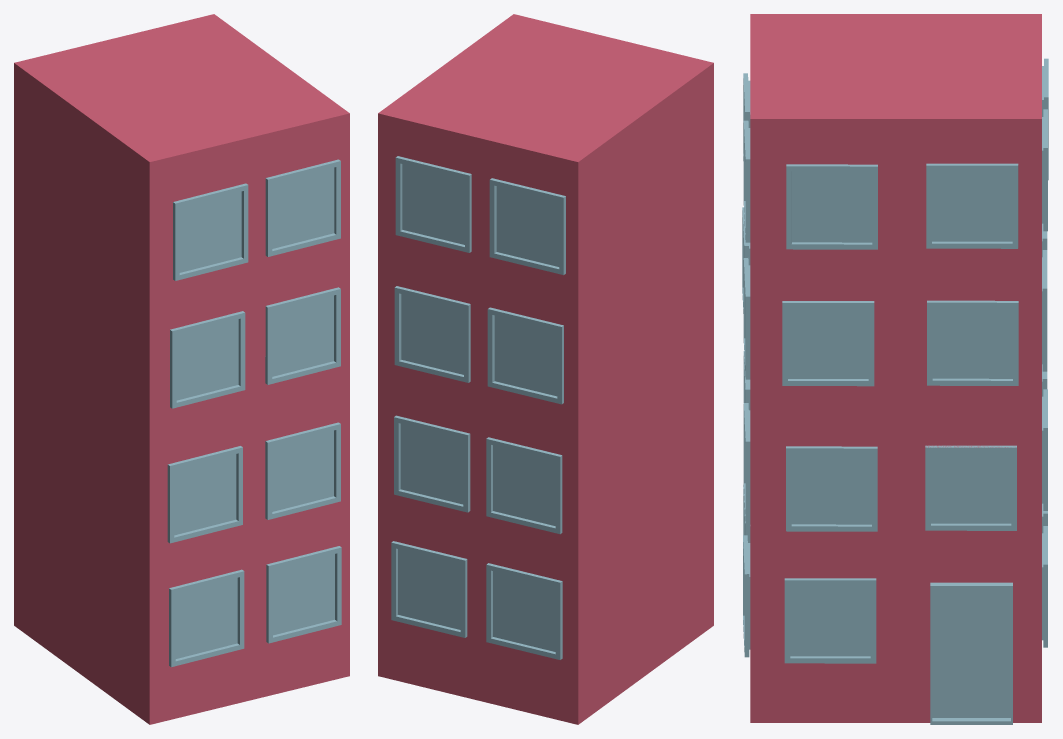
File: rakennus3blend_oikea.fbx
3 renders of one model, left to right at view 1: azimuth 30°, elevation 25°; view 2: azimuth 150°, elevation 25°; view 3: azimuth 270°, elevation 25°, orthographic. The views are drawn at different scales.
Parts seen in each view (by area): view 1: Plane.010; view 2: Plane.010; view 3: Plane.010.
Boxes of the visible parts, x1,y1,x2,y2 form: Plane.010: (14, 14, 349, 724); Plane.010: (378, 14, 713, 724); Plane.010: (742, 14, 1048, 724).
Bounding box in the file's own units: 282 × 731 × 336.
